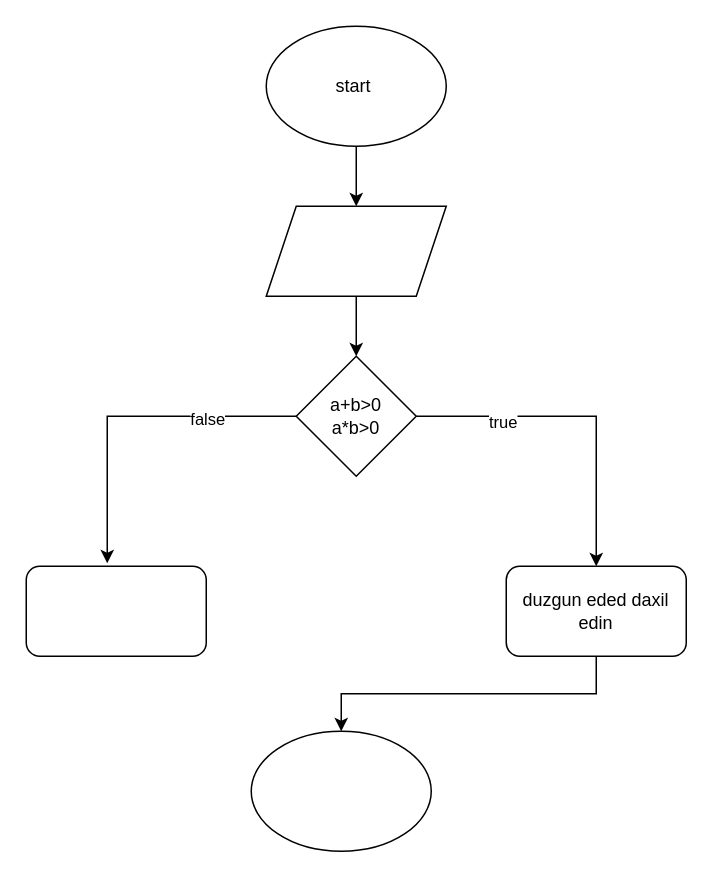
Image size: 713x878. Some labels were removed from this diagram. Here are the shapes that lost their labels. From the top down, the box of each, then its label:
(265, 205, 446, 296): n count
(25, 565, 206, 656): sert odenilmir
